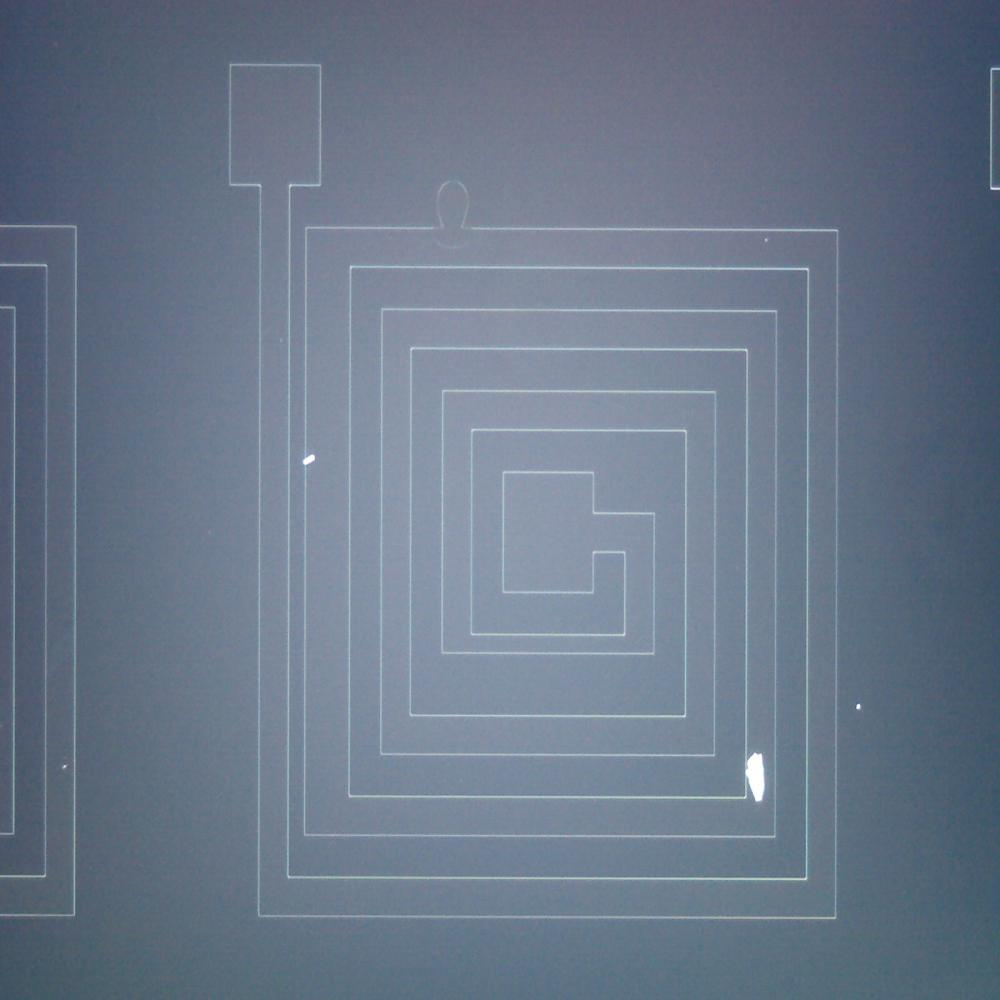curve: (748, 755, 773, 788)
dot: (303, 452, 315, 468), (856, 703, 860, 710), (63, 764, 66, 768), (765, 238, 767, 242)
